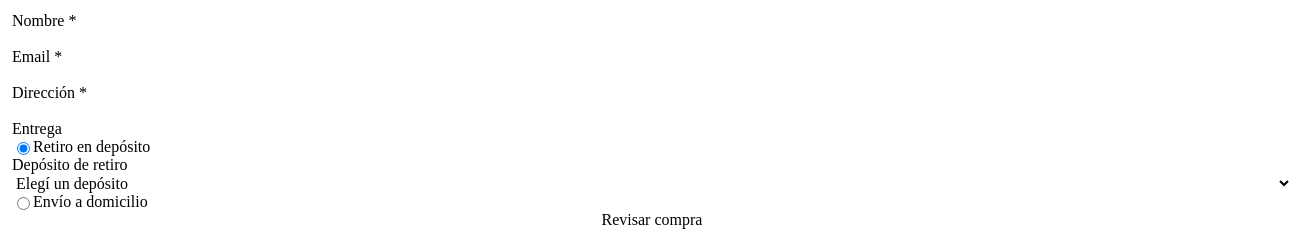
Test: CheckoutForm › offers home delivery only when some warehouse ships
Later steps or results of the test are not shown.
What coordinates should you click on to do the following:
click the radio button labelled "Envío a domicilio"
I would click on:
 (24, 204)
Its box is [17,197,30,210].
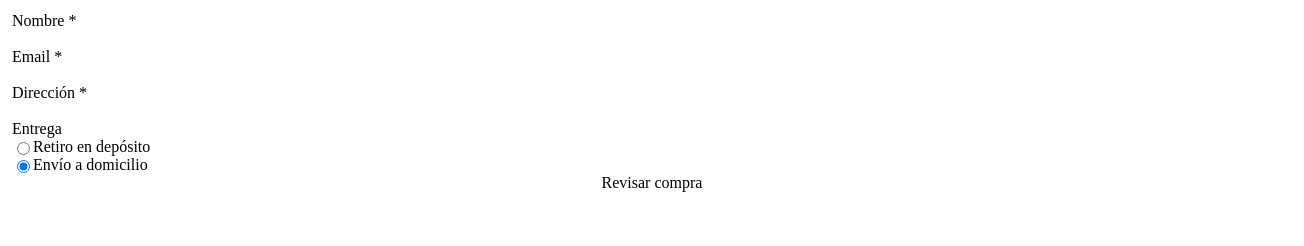
Now the label "Depósito de retiro" is gone
